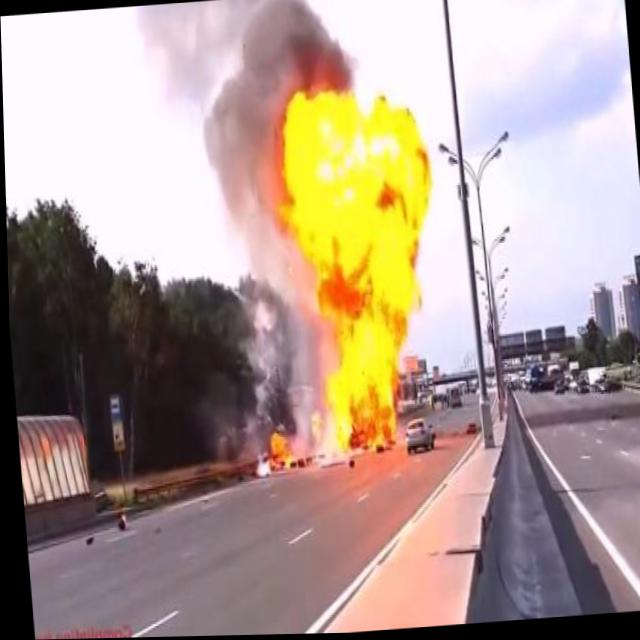fire: (271, 72, 454, 462), (264, 426, 295, 474)
